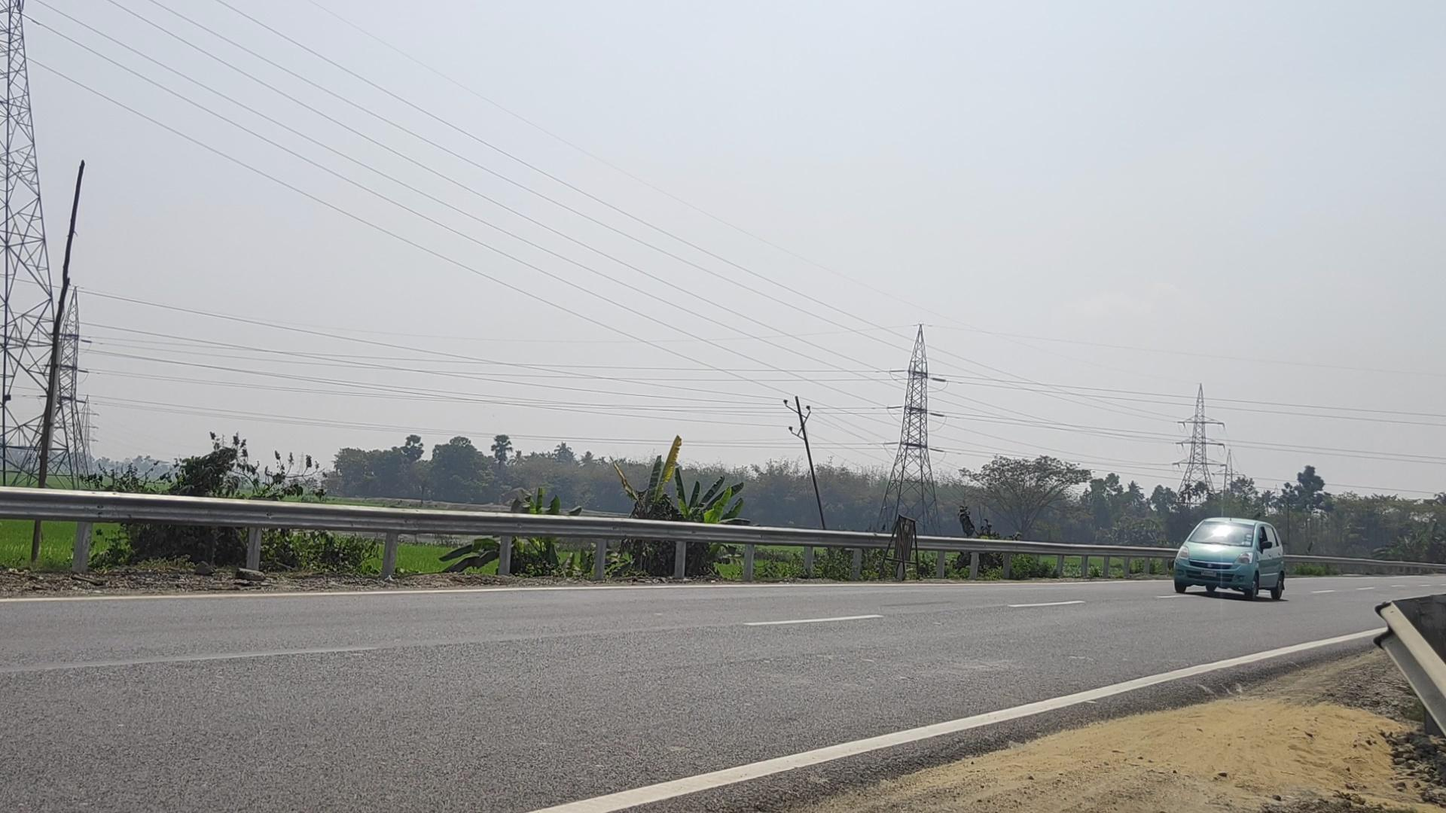car: (1173, 516, 1285, 602)
